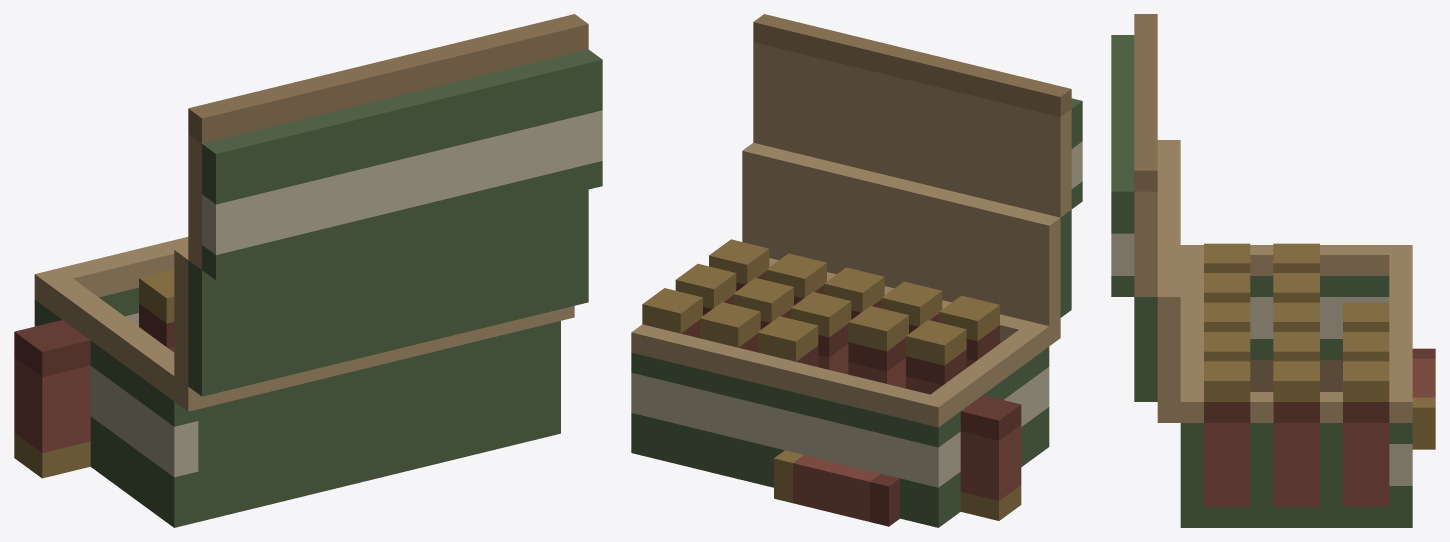
File: Claude_shotgun_shell_box.glb
3 views of the same model, side by side, from view 1: azimuth 30°, elevation 25°; view 2: azimuth 150°, elevation 25°; view 3: azimuth 270°, elevation 25° (orthographic). The views are drawn at different scales.
Visible parts, largest first — view 1: Claude_shotgun_shell_box; view 2: Claude_shotgun_shell_box; view 3: Claude_shotgun_shell_box.
Boxes of the visible parts, x1,y1,x2,y2 form: Claude_shotgun_shell_box: (14,14,602,527); Claude_shotgun_shell_box: (631,14,1082,527); Claude_shotgun_shell_box: (1111,14,1435,527).
Bounding box in the file's own units: 0.225 × 0.2125 × 0.175.
